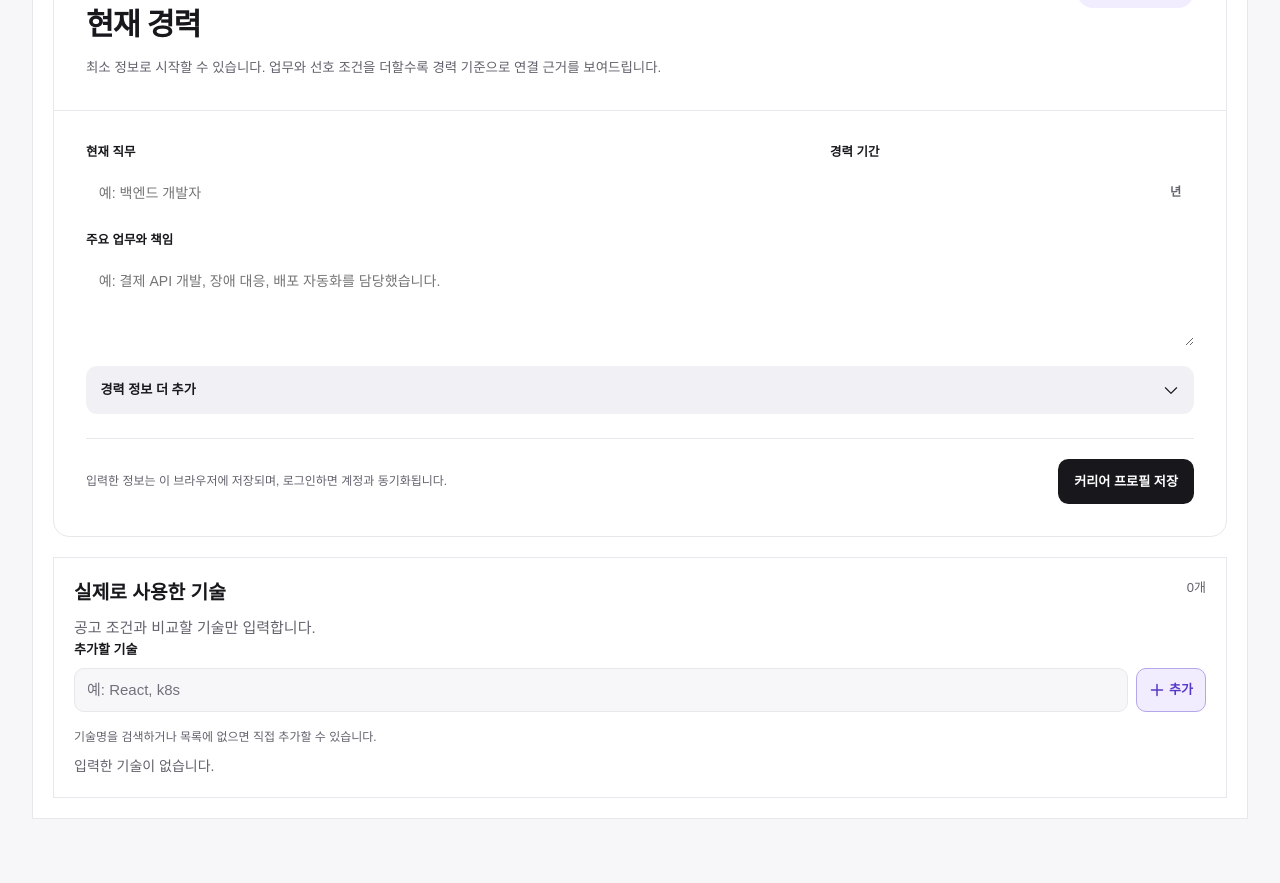
it: CareerPage › starts with the minimum career profile and keeps skills inside that flow
(page scrolled)
Expected: the heading "현재 경력" is shown, [86, 7, 200, 41]
Expected: the heading "실제로 사용한 기술" is shown, [74, 582, 226, 603]
Type "react" into the dropdown labelled "추가할 기술" at [601, 690], box [74, 668, 1128, 712]
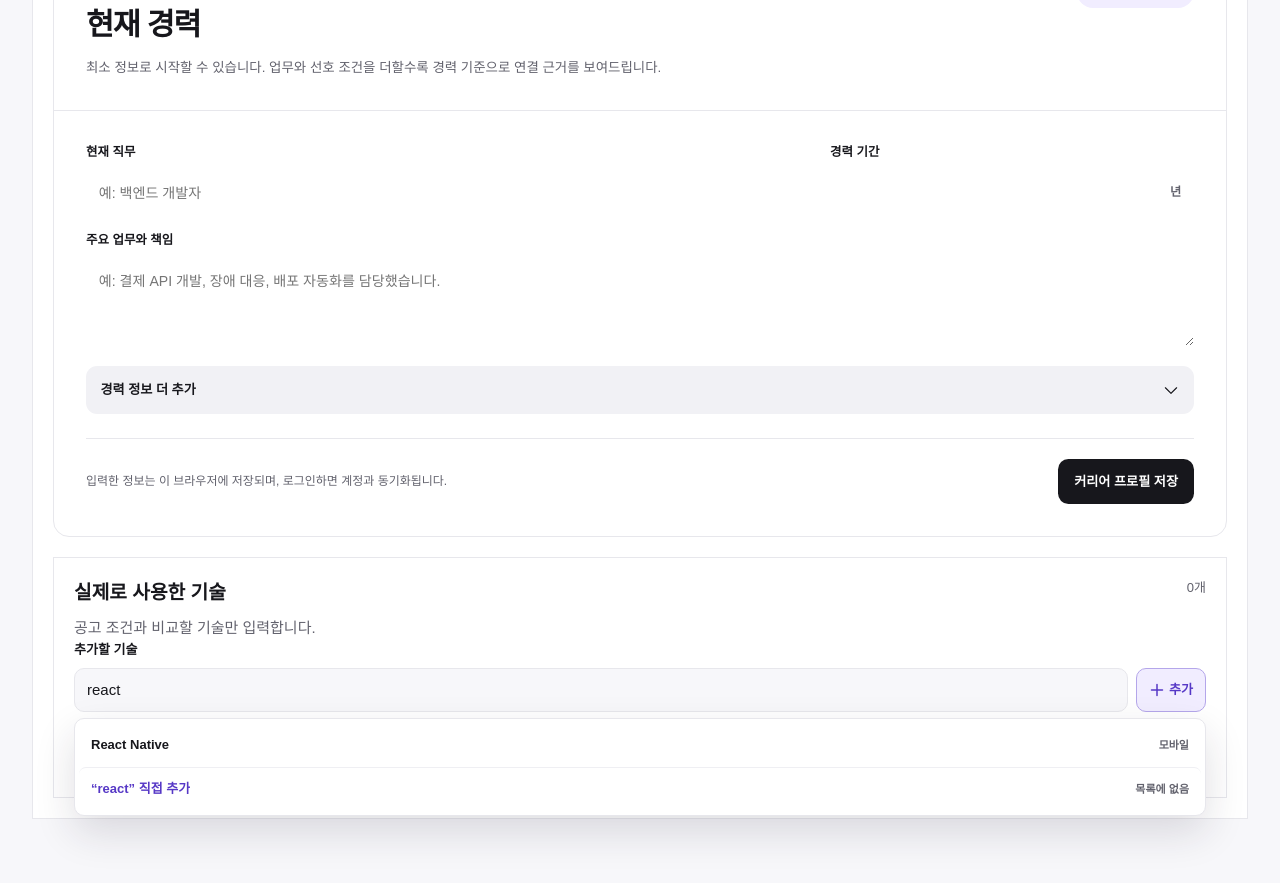
Now the option "React Native 모바일" is shown, box [91, 737, 1189, 752]
